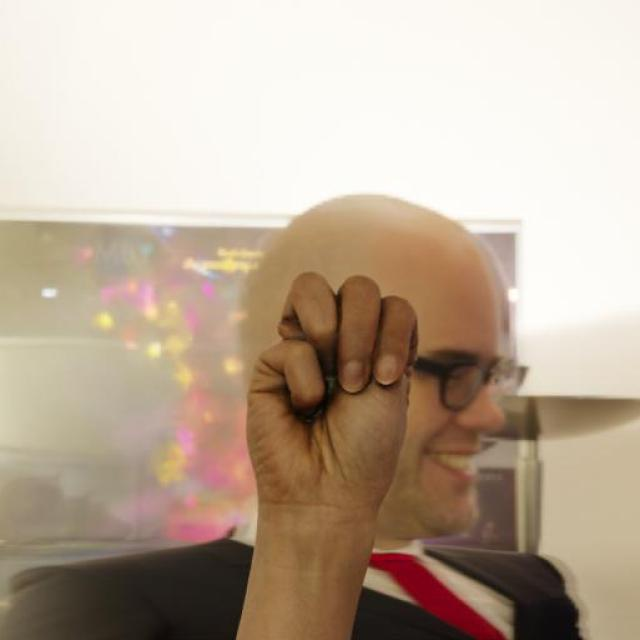M: (209, 264, 452, 594)
